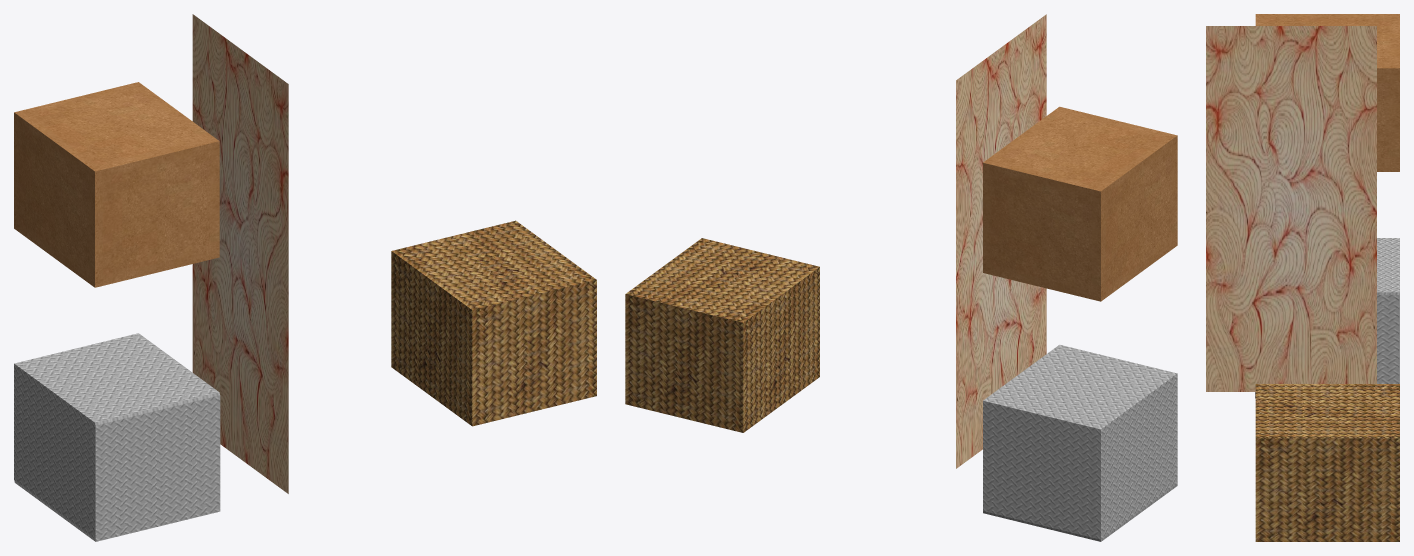
The model's file is TestAssetsPlane.fbx.
3 renders of one model, left to right at view 1: azimuth 30°, elevation 25°; view 2: azimuth 150°, elevation 25°; view 3: azimuth 270°, elevation 25°, orthographic. The views are drawn at different scales.
Parts seen in each view (by area): view 1: Plane01, Box02, Box03, Box01; view 2: Box02, Box03, Box01, Plane01; view 3: Plane01, Box01, Box03, Box02.
Boxes of the visible parts, left/top/right/bottom form: Plane01: left=192, top=14, right=288, bottom=493; Box02: left=14, top=333, right=220, bottom=541; Box03: left=14, top=82, right=219, bottom=287; Box01: left=391, top=220, right=596, bottom=426; Box02: left=983, top=344, right=1177, bottom=541; Box03: left=983, top=106, right=1177, bottom=301; Box01: left=625, top=238, right=819, bottom=432; Plane01: left=956, top=14, right=1046, bottom=468; Plane01: left=1206, top=26, right=1376, bottom=391; Box01: left=1255, top=384, right=1399, bottom=541; Box03: left=1255, top=14, right=1399, bottom=171; Box02: left=1255, top=238, right=1399, bottom=398.
Size of the model in its own units: 33.89 by 75.31 by 90.39.
Materials: 4 (4 with a texture image).
